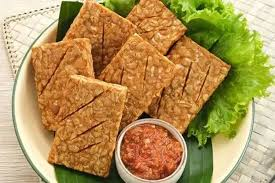Tempe goreng: (142, 33, 233, 138), (49, 69, 127, 179), (100, 32, 180, 113), (30, 38, 92, 136), (63, 1, 141, 41)
